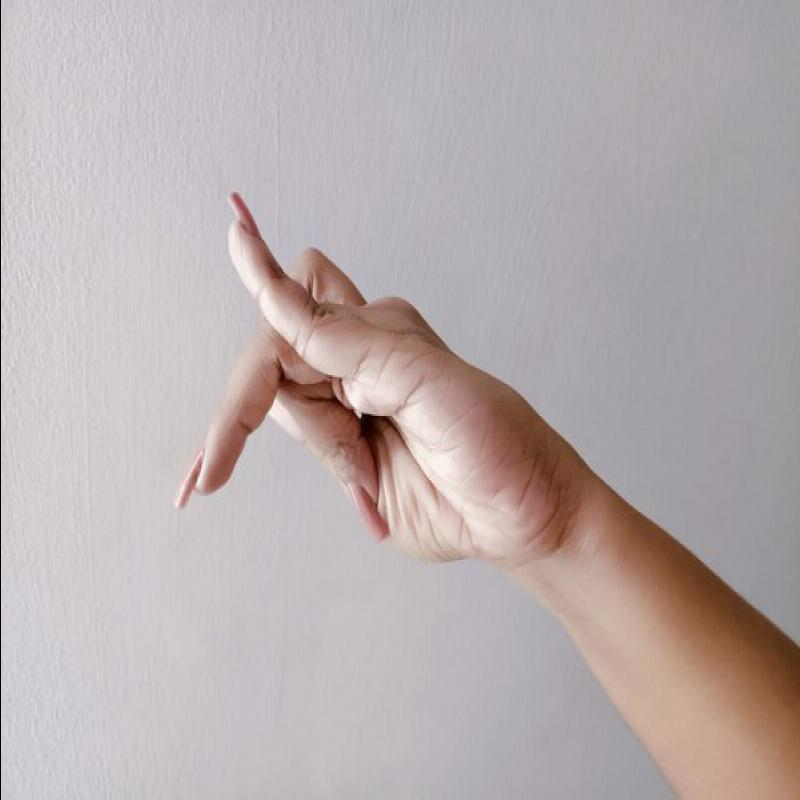Katakam: (146, 182, 569, 570)
